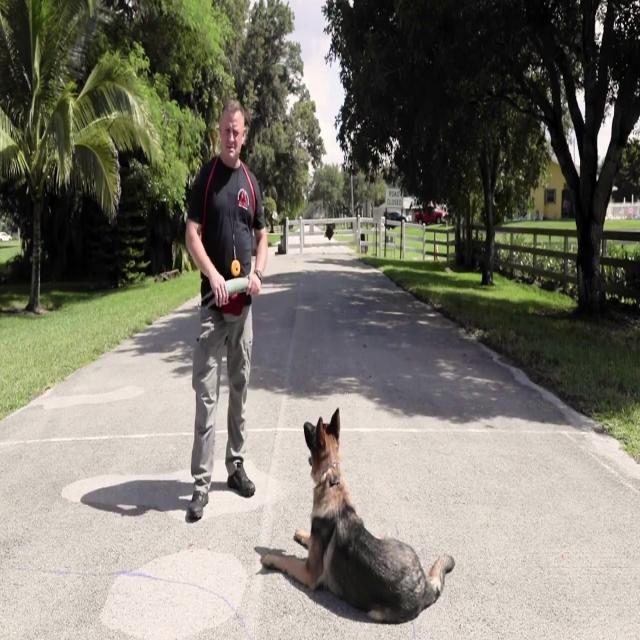Unleashed_Dog: (227, 341, 456, 623)
